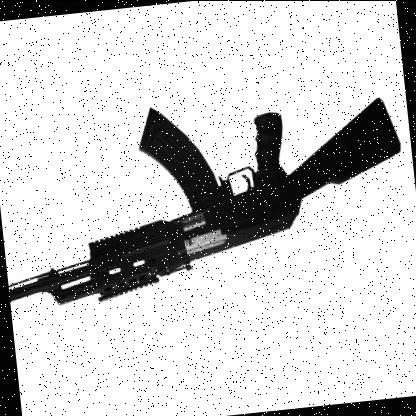rifle: (0, 54, 414, 333)
